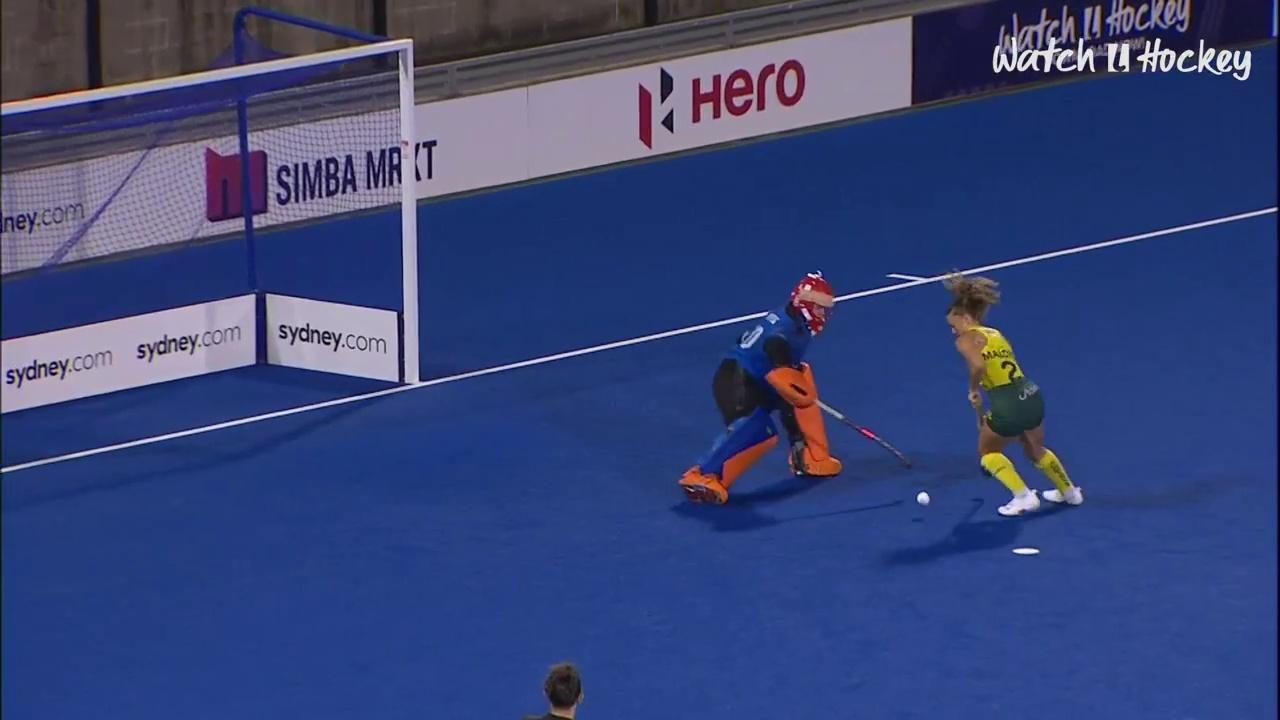ball: (910, 481, 941, 512)
